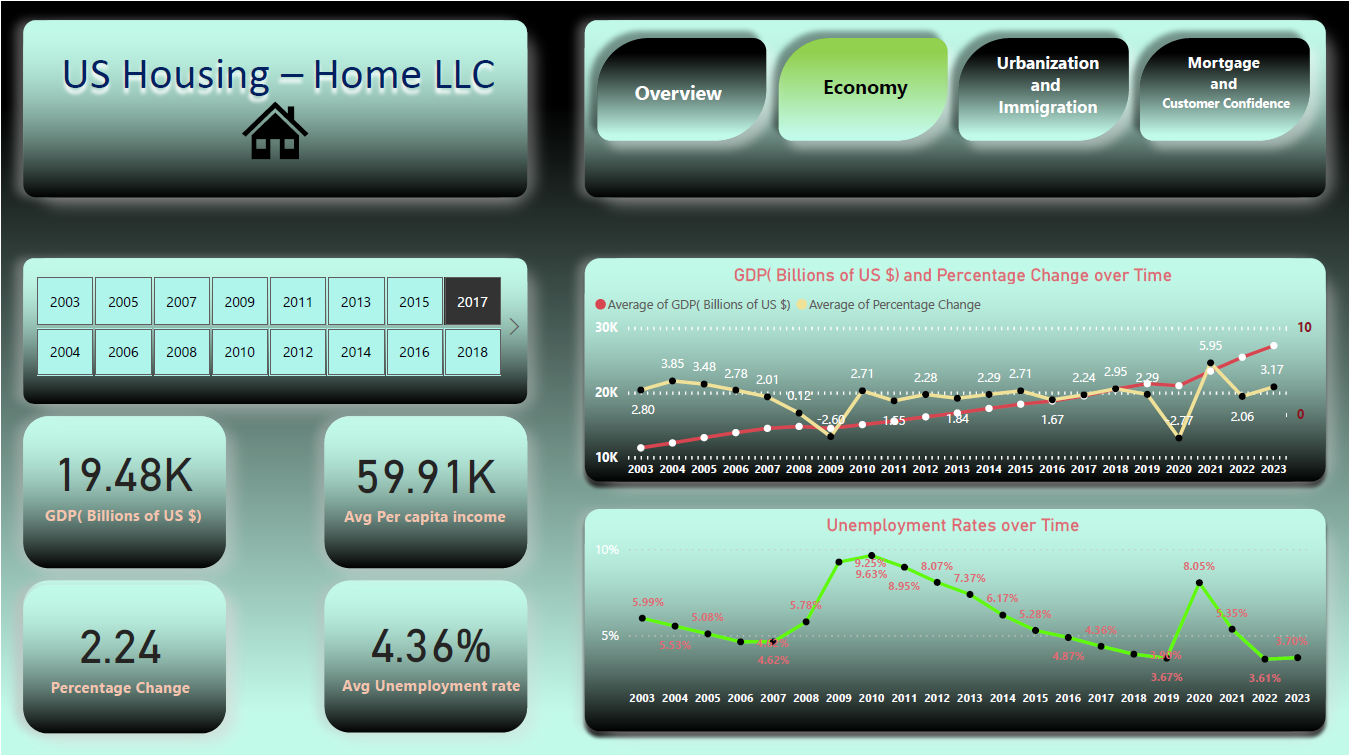

This screenshot's page, from the dashboard's own definition file:
{"tool":"powerbi","page":{"name":"Economy","canvas":[1280,720],"ordinal":1},"visuals":[{"type":"card","fields":{"Values":["Avg(US Housing.GDP( Billions of US $))"]},"box":[27.1,392.9,180,125],"z":0},{"type":"card","fields":{"Values":["Avg(US Housing.Per capita income)"]},"box":[312.9,394.3,180,125.7],"z":1000},{"type":"card","fields":{"Values":["Avg(US Housing.Percentage Change)"]},"box":[24.3,555.7,180,125.7],"z":2000},{"type":"card","fields":{"Values":["Avg(US Housing.Unemployment rate)"]},"box":[318.6,554.3,180,125.7],"z":3000},{"type":"slicer","fields":{"Values":["US Housing.Year"]},"box":[8.8,256.2,490,106.2],"z":4000},{"type":"lineChart","title":" GDP( Billions of US $) and Percentage Change over Time","fields":{"Y":["Avg(US Housing.GDP( Billions of US $))"],"Category":["US Housing.Date.Variation.Date Hierarchy.Year","US Housing.Date.Variation.Date Hierarchy.Month"],"Y2":["Avg(US Housing.Percentage Change)"]},"box":[558.8,250,691.2,212],"z":5000},{"type":"lineChart","title":"Unemployment Rates over Time","fields":{"Y":["Avg(US Housing.Unemployment rate)"],"Category":["US Housing.Date.Variation.Date Hierarchy.Year","US Housing.Date.Variation.Date Hierarchy.Month"]},"box":[558.8,487.5,691.2,192.5],"z":6000},{"type":"group","id":"g1","title":"Group 1","box":[573.6,36.1,138,86.9],"z":6001},{"type":"group","id":"g2","title":"Group 2","box":[744,36,148.8,95.2],"z":6002},{"type":"group","id":"g3","title":"Group 3","box":[916.4,34.5,157.1,95.2],"z":6003},{"type":"group","id":"g4","title":"Group 4","box":[1087.7,34.5,148.8,104.7],"z":6004},{"type":"textbox","box":[583.6,36.1,119,84.5],"z":9000,"group":"g1"},{"type":"shape","box":[744,36,148.8,95.2],"z":9500,"group":"g2"},{"type":"textbox","box":[916.4,42.8,157.1,86.9],"z":10000,"group":"g3"},{"type":"textbox","box":[751.1,46.7,134.5,73.8],"z":10000,"group":"g2"},{"type":"shape","box":[920,34.5,148.8,95.2],"z":10500,"group":"g3"},{"type":"textbox","box":[1096,42.8,134.5,96.4],"z":12000,"group":"g4"},{"type":"shape","box":[573.6,54,138,69],"z":12001,"group":"g1"},{"type":"shape","box":[1087.7,34.5,148.8,95.2],"z":12006,"group":"g4"}]}

Visuals, with their boxes in screenshot pixels (x1, y1, x2, y2), scaled from the page's 1280x720 canvas onto the 1349x755 screenshot:
card - Avg(US Housing.GDP( Billions of US $)): bbox=(29, 412, 218, 543)
card - Avg(US Housing.Per capita income): bbox=(330, 413, 519, 545)
card - Avg(US Housing.Percentage Change): bbox=(26, 583, 215, 715)
card - Avg(US Housing.Unemployment rate): bbox=(336, 581, 525, 713)
slicer - US Housing.Year: bbox=(9, 269, 526, 380)
" GDP( Billions of US $) and Percentage Change over Time" lineChart: bbox=(589, 262, 1317, 484)
"Unemployment Rates over Time" lineChart: bbox=(589, 511, 1317, 713)
"Group 1" group: bbox=(605, 38, 750, 129)
"Group 2" group: bbox=(784, 38, 941, 138)
"Group 3" group: bbox=(966, 36, 1131, 136)
"Group 4" group: bbox=(1146, 36, 1303, 146)
textbox: bbox=(615, 38, 740, 126)
shape: bbox=(784, 38, 941, 138)
textbox: bbox=(966, 45, 1131, 136)
textbox: bbox=(792, 49, 933, 126)
shape: bbox=(970, 36, 1126, 136)
textbox: bbox=(1155, 45, 1297, 146)
shape: bbox=(605, 57, 750, 129)
shape: bbox=(1146, 36, 1303, 136)
